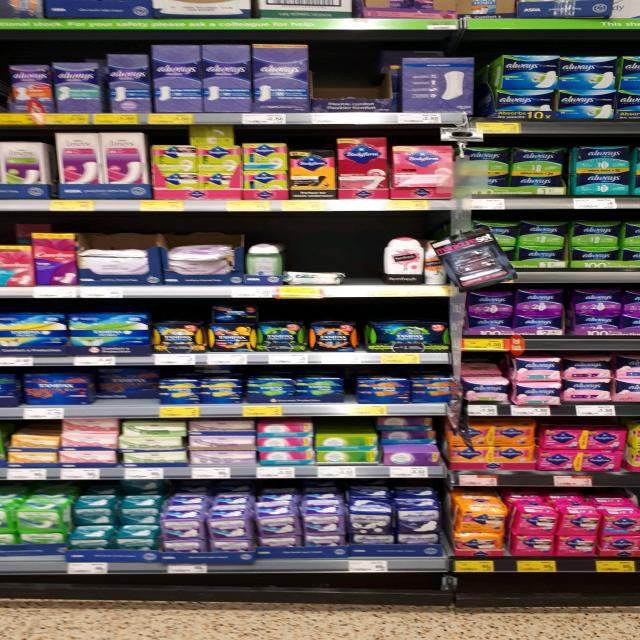empty: (309, 45, 394, 103), (341, 224, 384, 285)
